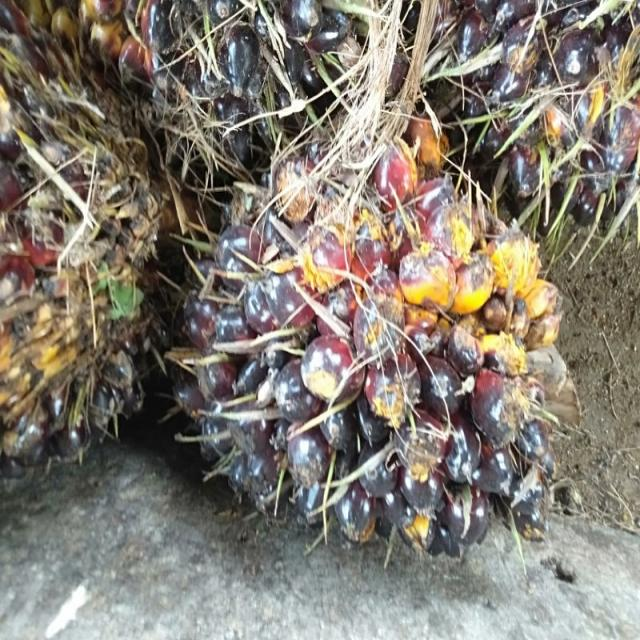fraksi 1: (175, 39, 583, 590)
